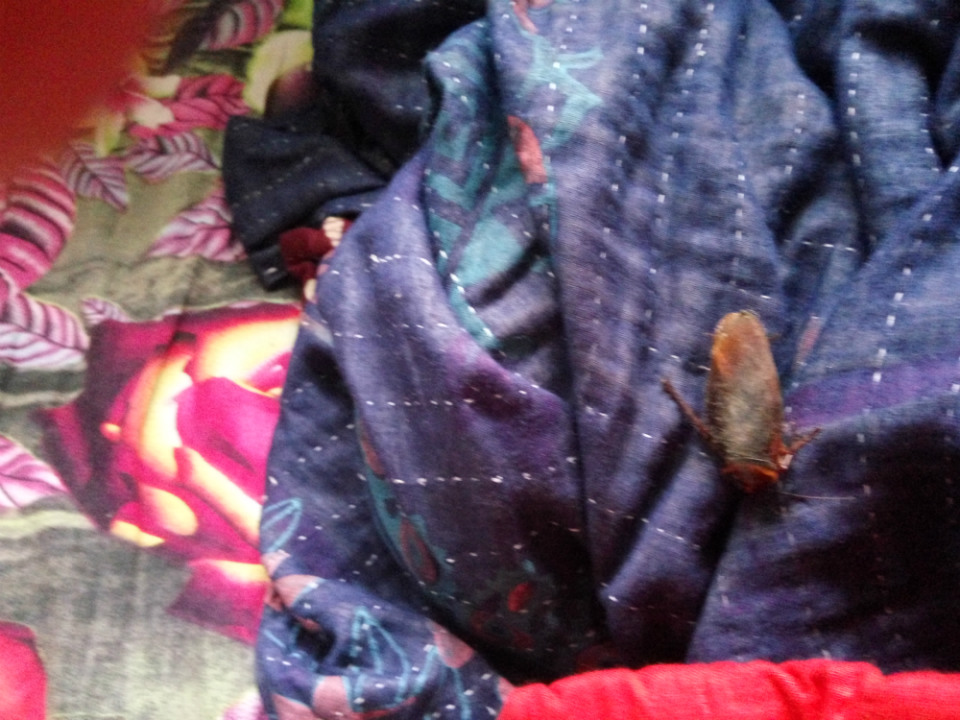cockroach: (613, 273, 895, 532)
